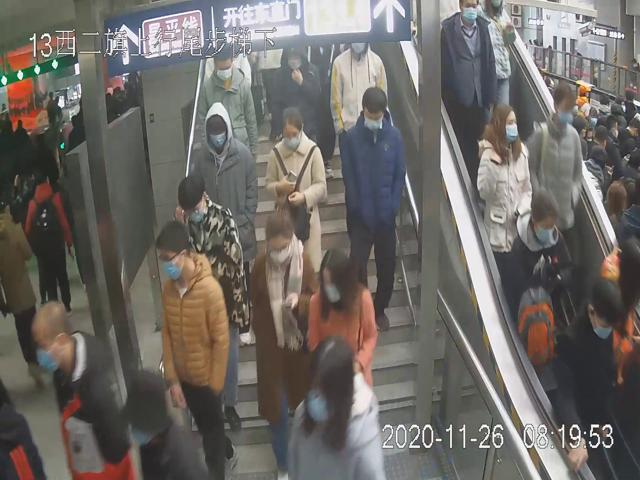person: (154, 221, 236, 480), (176, 171, 249, 432), (249, 202, 310, 477), (340, 86, 405, 333), (498, 187, 570, 360), (263, 104, 329, 278), (193, 100, 258, 272), (307, 245, 377, 400), (472, 101, 530, 258), (194, 44, 258, 171)
